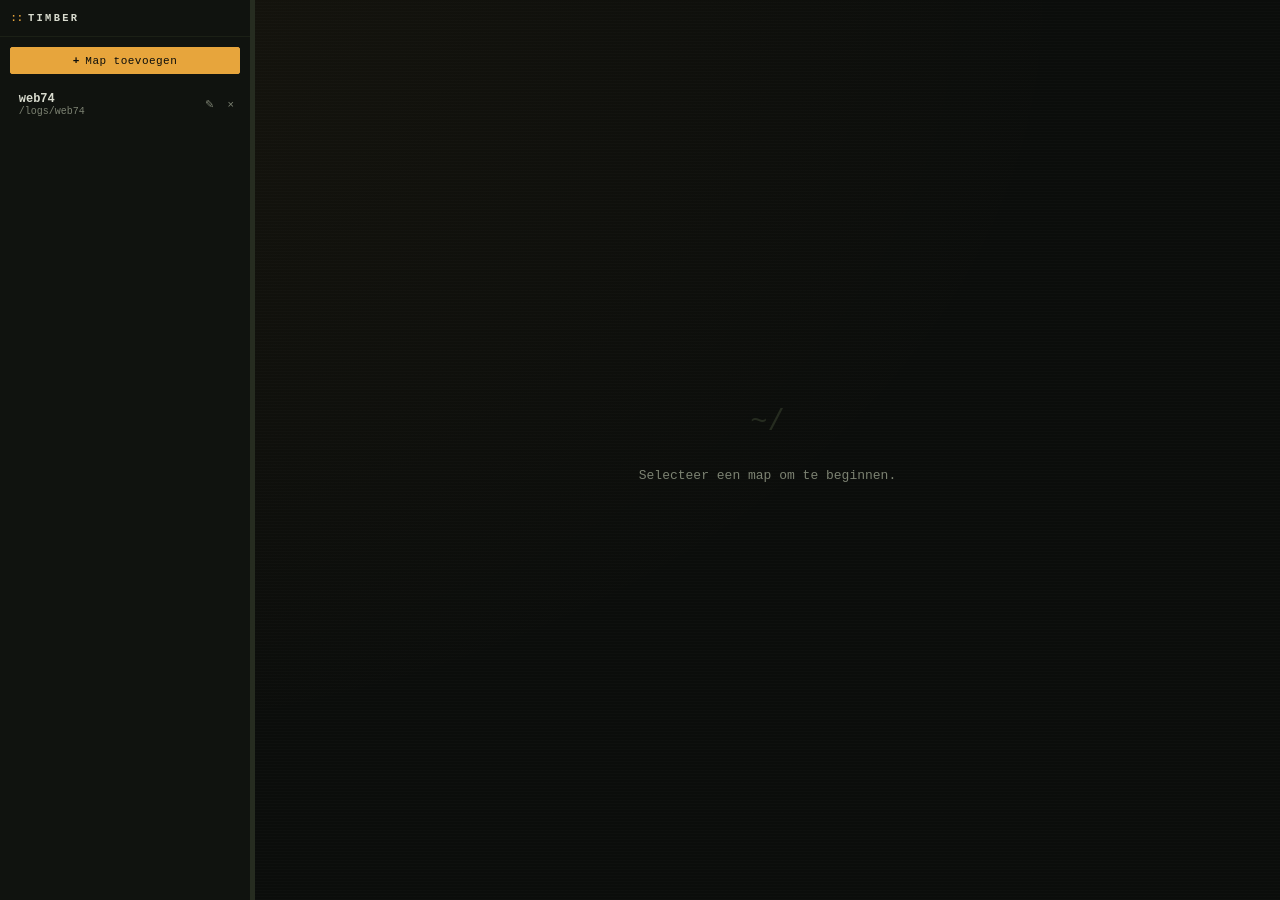
Scenario: App › navigates to the folder when a toast's action is clicked
Click the text "/logs/web74" at [52, 111], box [19,106,85,117]
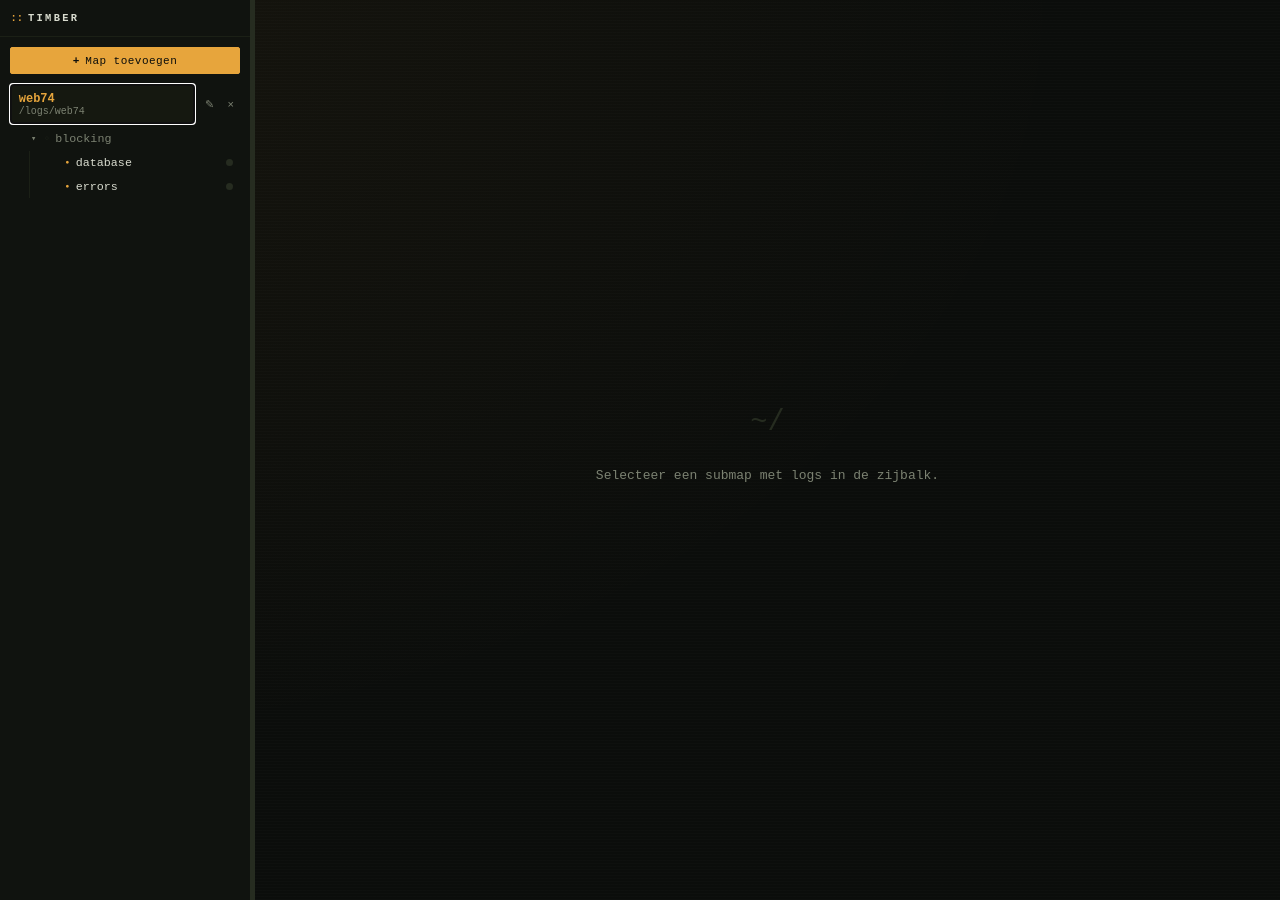
Click the text "database" at [104, 163], box [76,156,132,170]
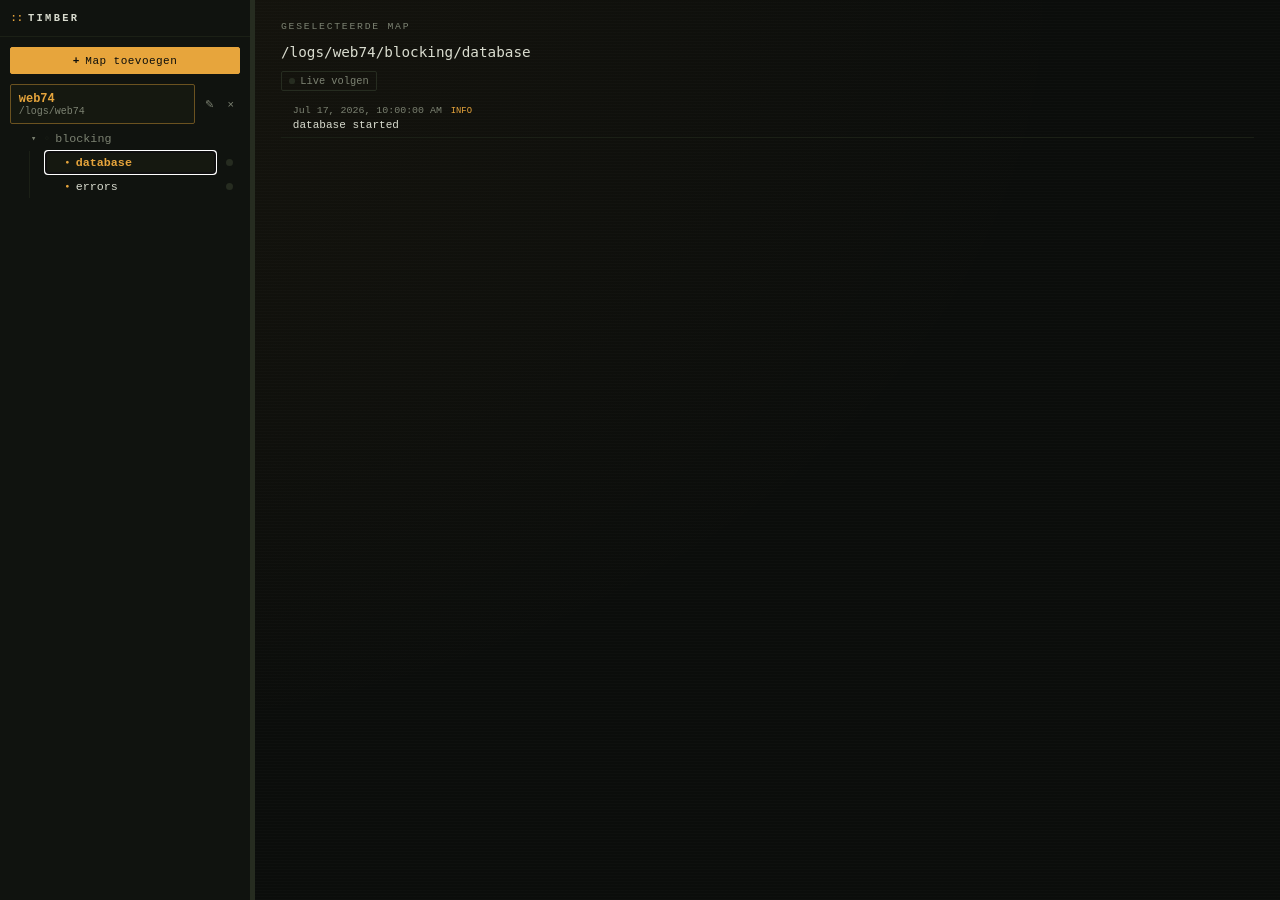
Click the button named "live volgen errors aanzetten" at [230, 187], box [219,175,240,198]
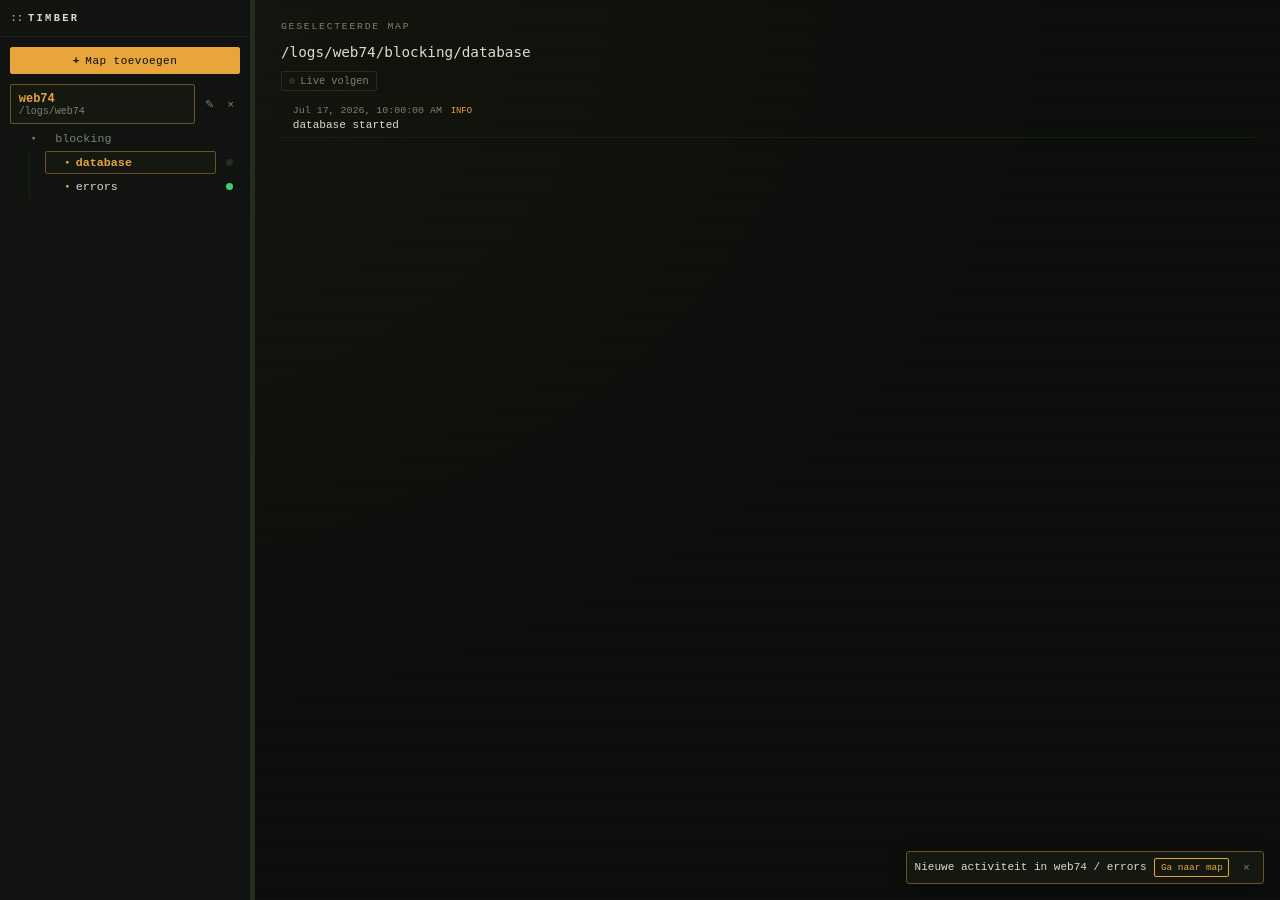
Click the button "Ga naar map" at [1192, 868], box [1154,858,1229,877]
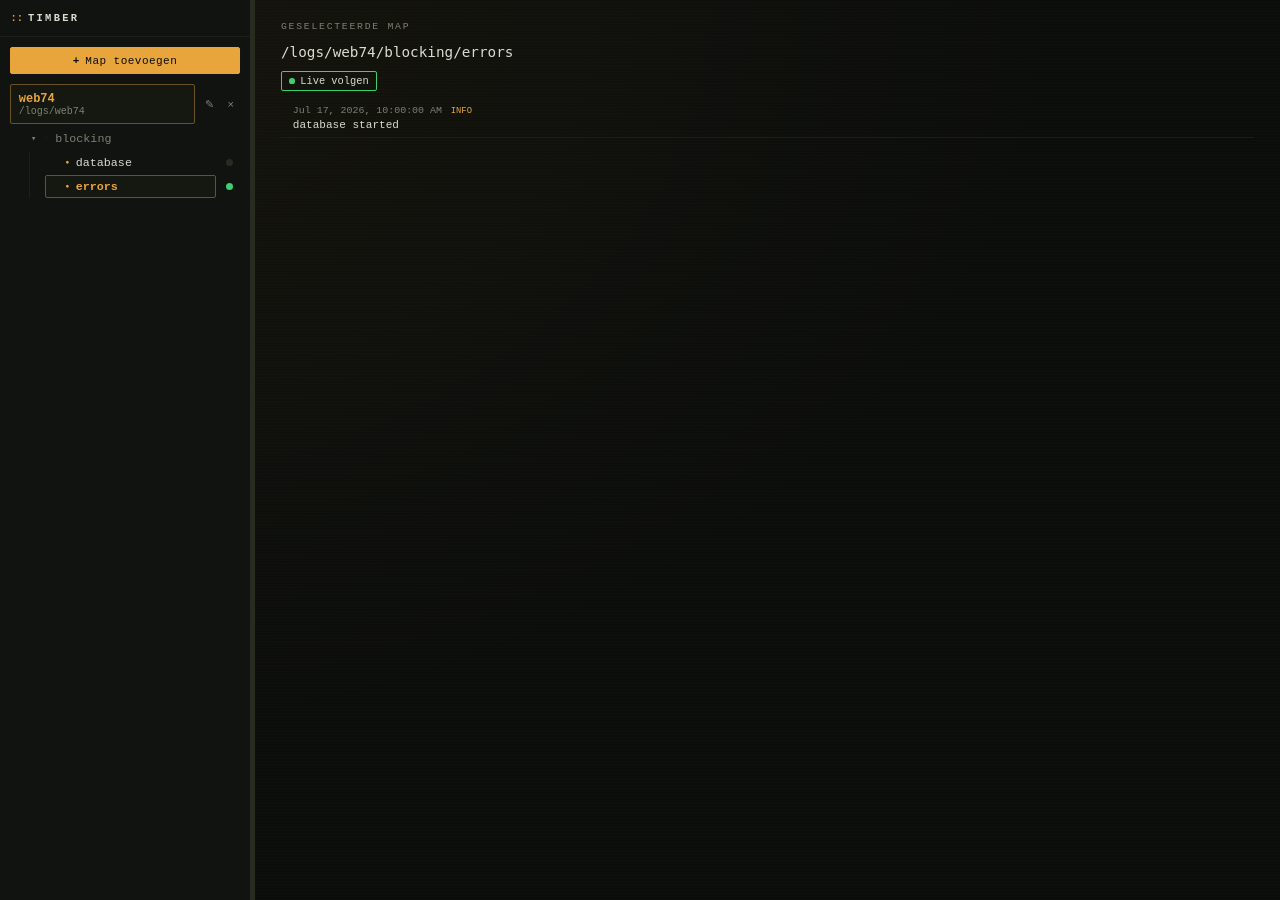
Result: the text "/logs/web74/blocking/errors" is shown at [281,42,513,63]
